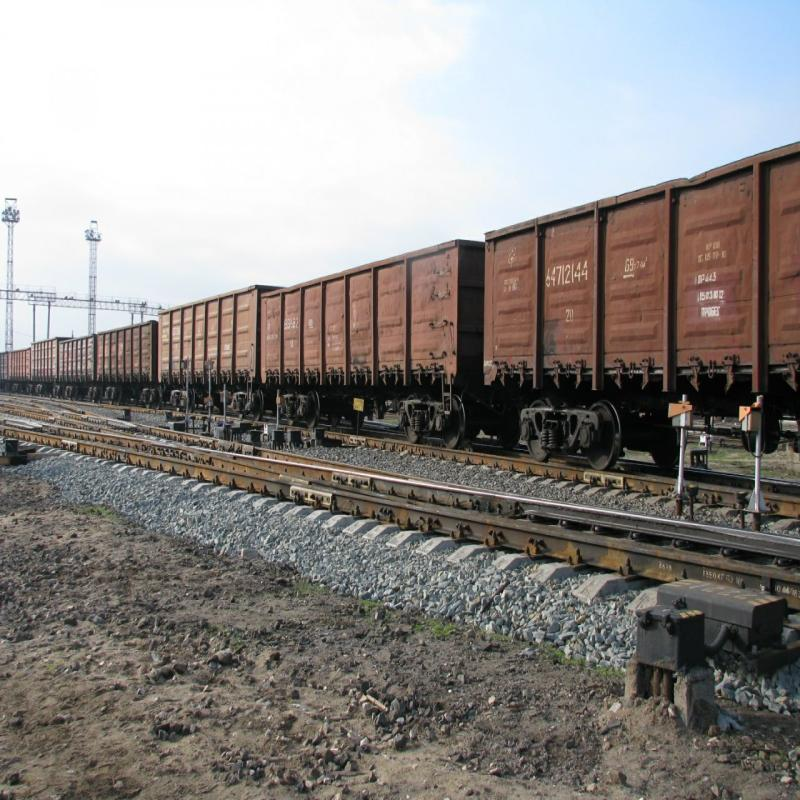train: (478, 129, 800, 486), (256, 216, 495, 442), (149, 258, 295, 434), (91, 308, 176, 407), (28, 321, 95, 390)
